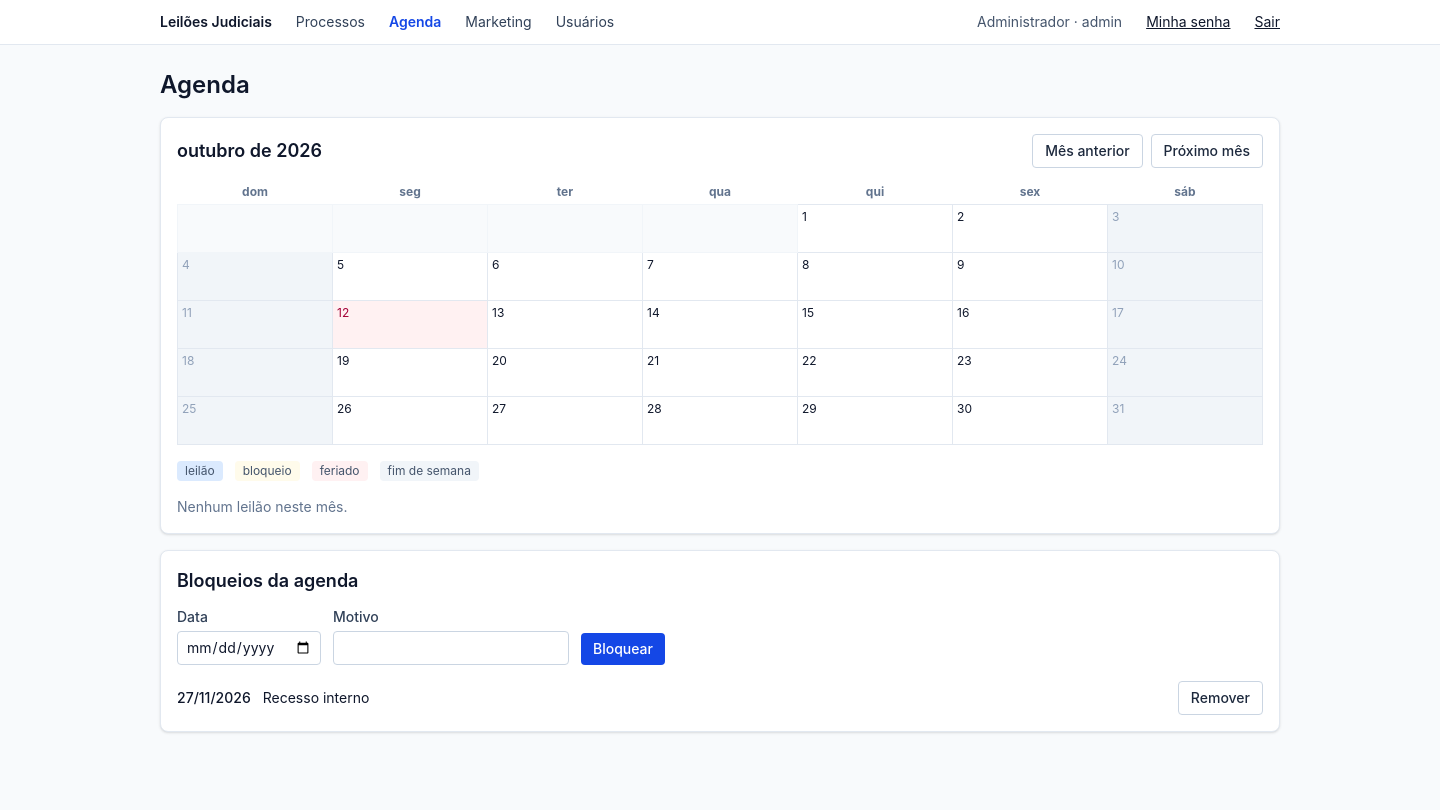
Test: AgendaPage › admin recebe 409 em bloqueio duplicado
Expected: the text "Recesso interno" is shown, [263,688,369,708]
Type "2026-11-27" into the date field labelled "Data" at [249, 648], box [177,631,321,665]
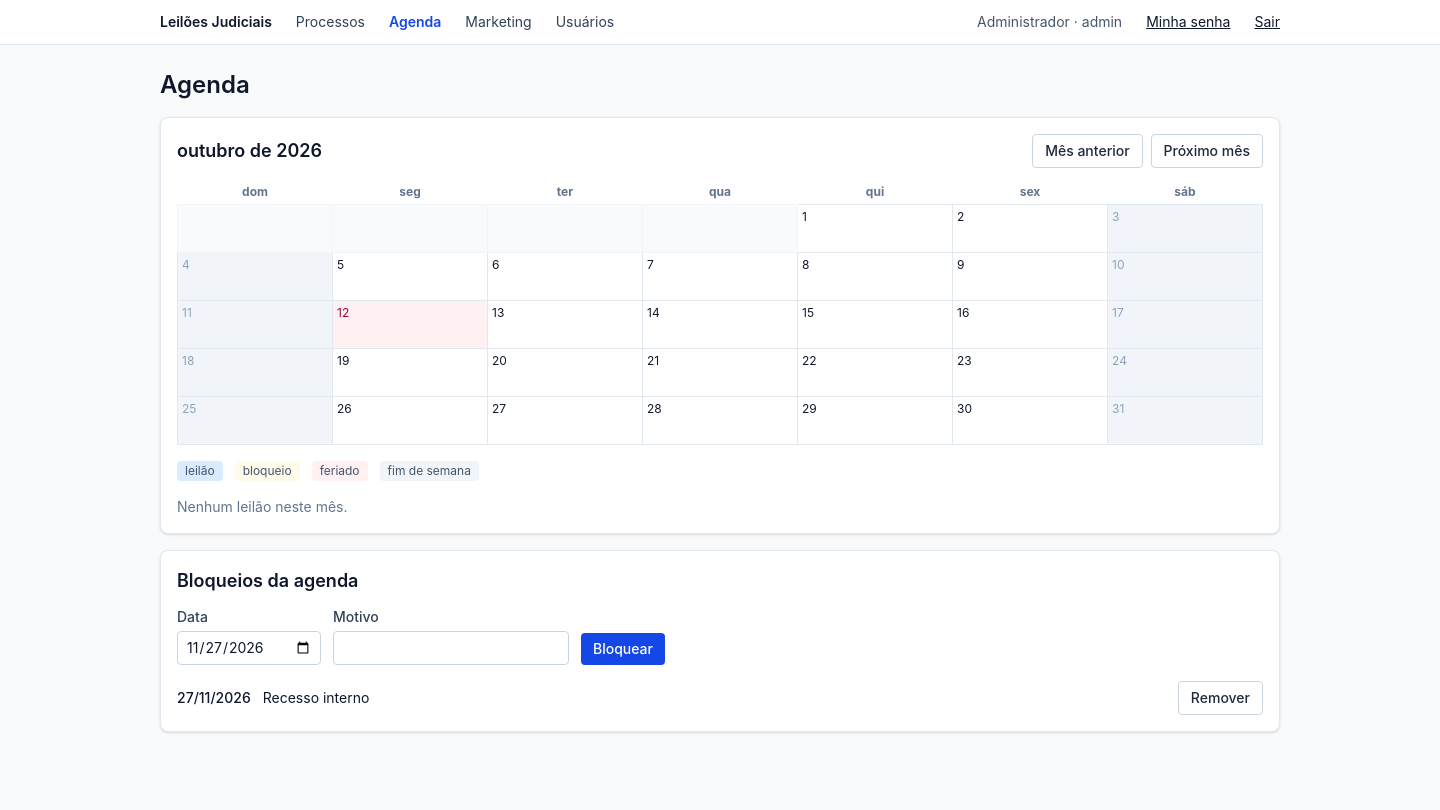
Type "Repetido" into the field labelled "Motivo" at [451, 648], box [333,631,569,665]
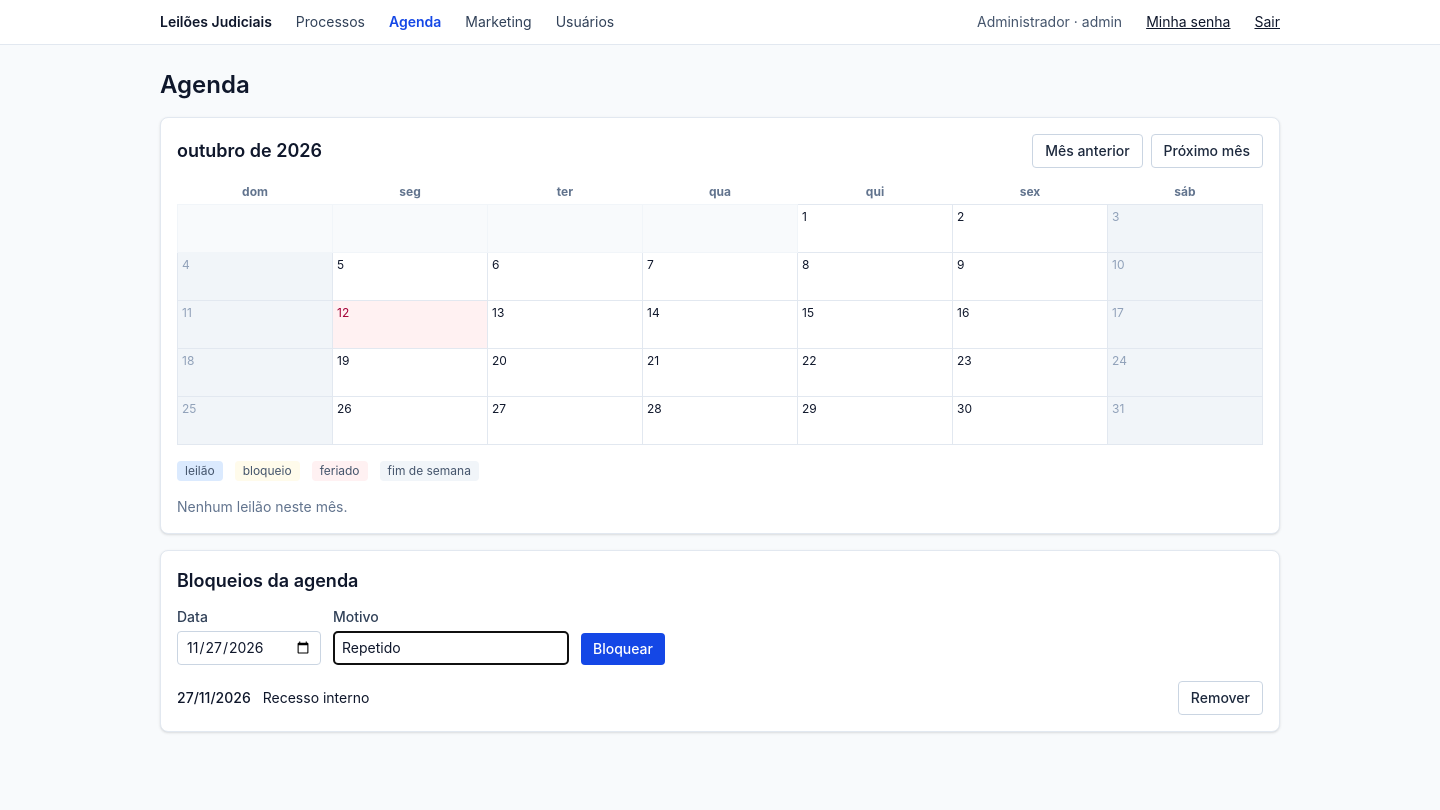
Click the button "Bloquear" at [623, 649], box [581,633,665,665]
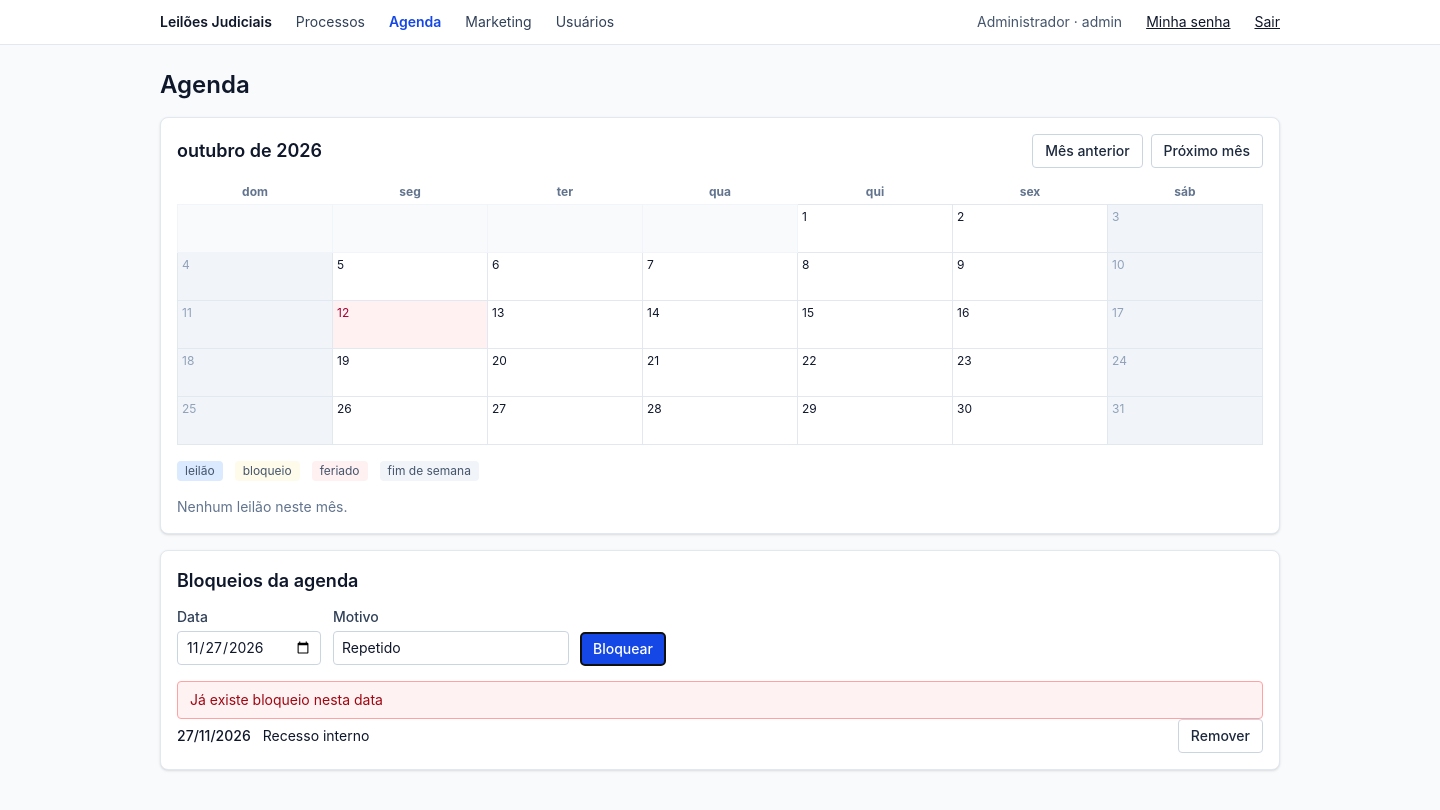
Expected: the message reads "Já existe bloqueio nesta data", [190,691,383,708]
